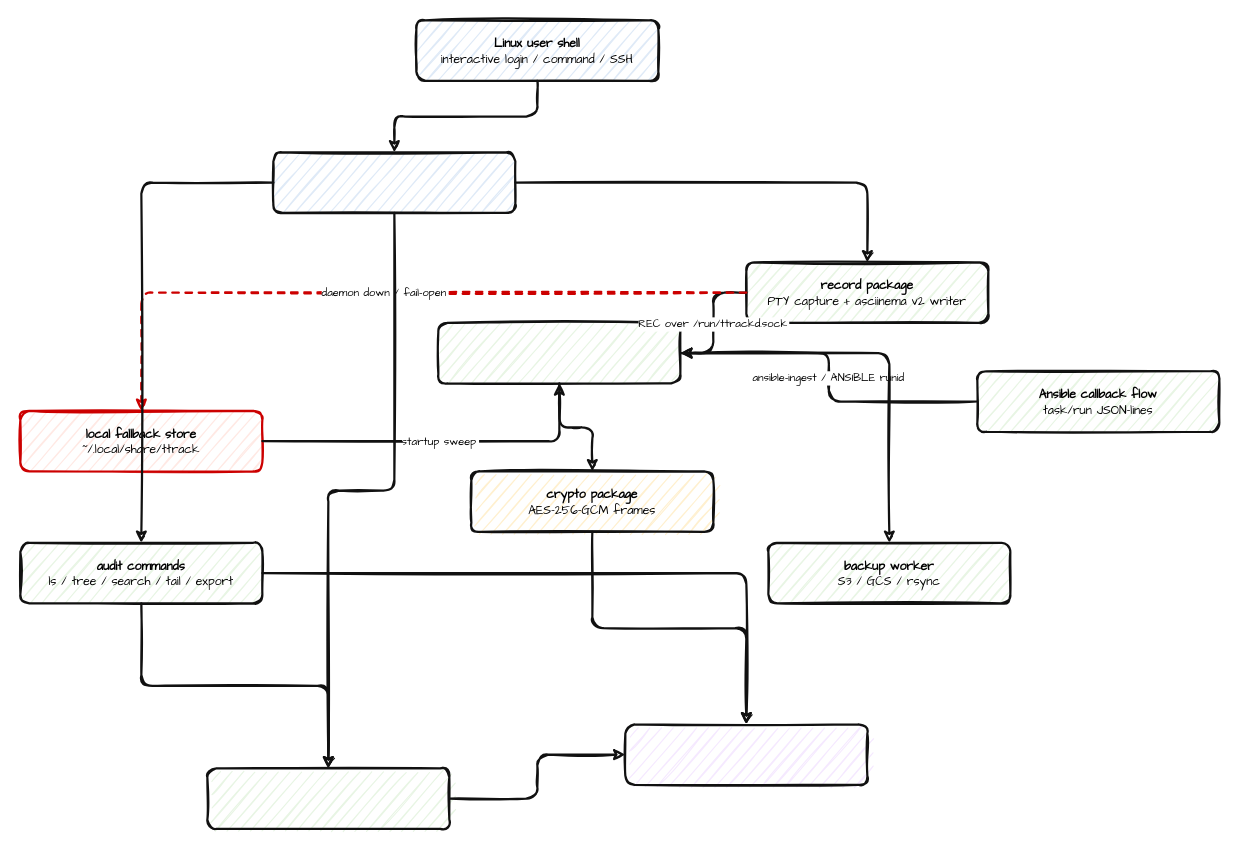
Some shapes in this 1239 by 848 pixel diagram are drawn without their labels. The shapes that lost their labels are listed below. From the top down, each one's centre as x and y in pixels, then its label:
(394,182): ttrack CLI cmd/ttrack
(559,352): ttrackd root daemon Unix socket collector
(746,754): central root-only store /var/lib/ttrack
(328,798): player snapshot-bounded replay
